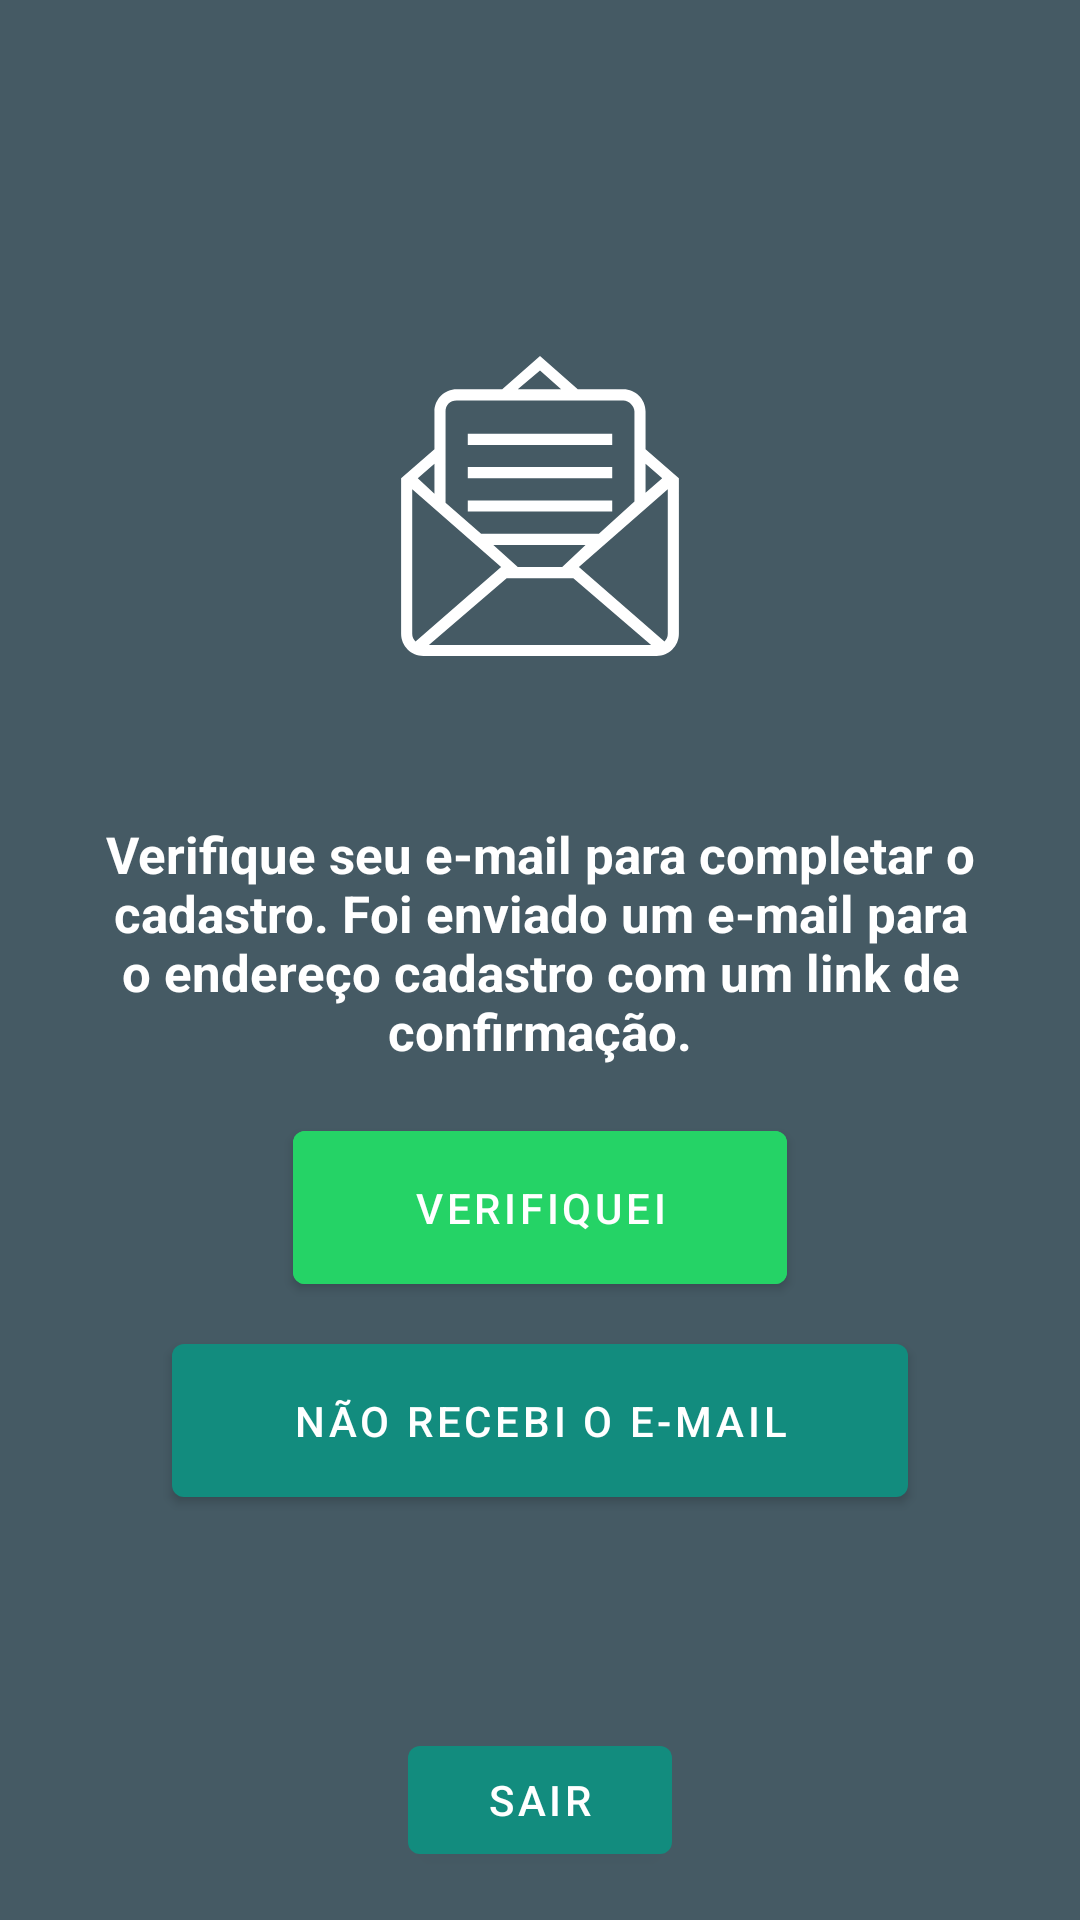

Icon bounding boxes for this 1080px x 1920px phone screenshot, format box(x1, y1, x2, y2):
Carta: box(401, 356, 679, 656)
